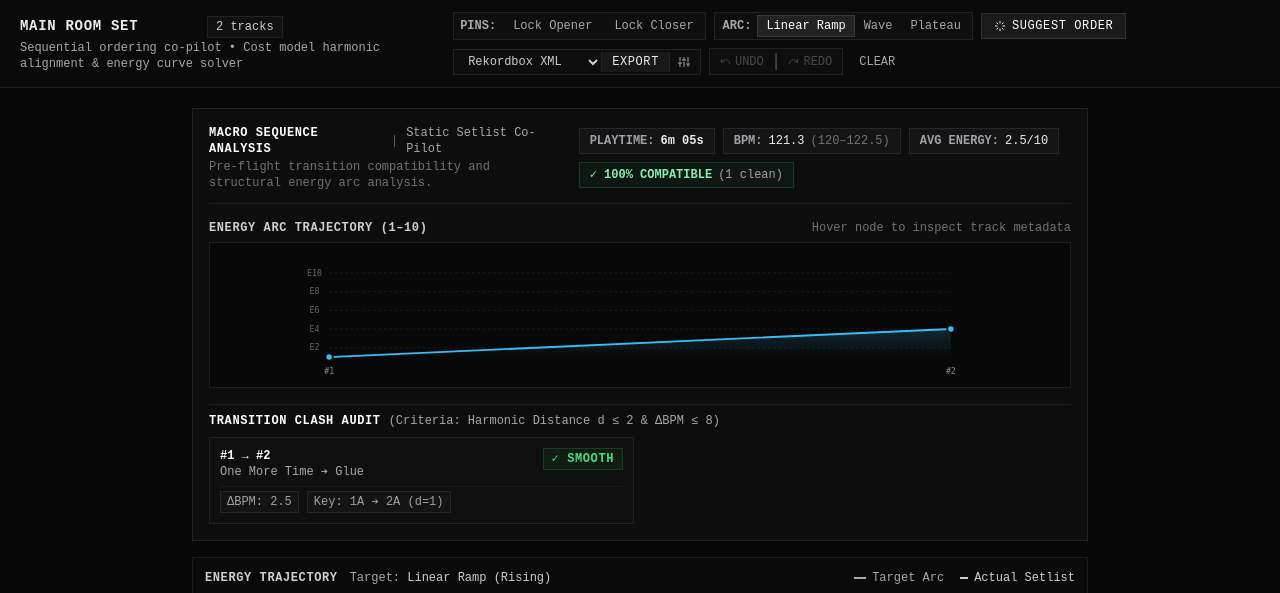
Test: Export Safety & Structured Result Regression Tests › returns structured ExportResult and shows path, format, and track count
The image size is (1280, 593).
# Click quick export
Click the button "Export" at [636, 62], box [602,52,669,72]
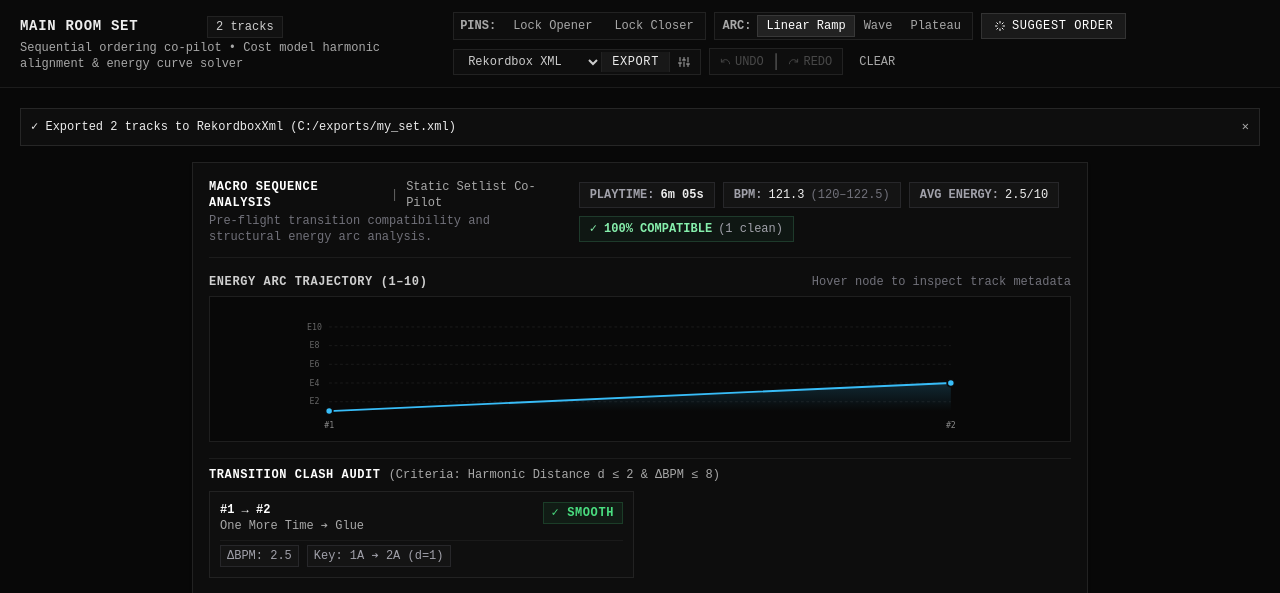
Expected: the text "✓ Exported 2 tracks to RekordboxXml (C:/exports/my_set.xml)" is shown, [31,119,456,135]
